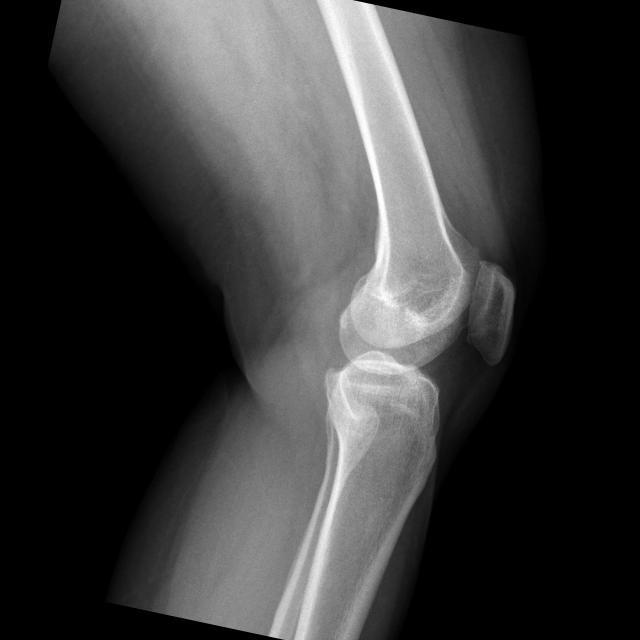Knee: (314, 225, 526, 448)
